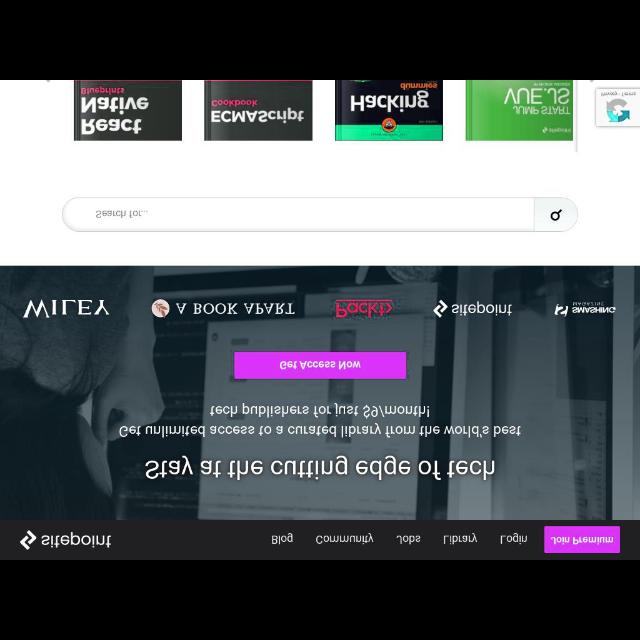backgroundimage: (1, 266, 640, 520)
button: (535, 196, 579, 232)
icon: (550, 208, 562, 220)
image: (466, 81, 574, 141), (75, 80, 182, 140), (205, 81, 312, 141), (336, 81, 442, 140), (152, 302, 294, 318), (20, 530, 112, 550), (23, 300, 109, 318), (433, 300, 513, 318), (336, 299, 394, 317), (554, 301, 616, 317), (606, 100, 630, 122)
input: (62, 196, 578, 232)
text: (120, 402, 520, 438), (144, 455, 496, 481), (280, 360, 362, 370), (316, 532, 374, 544), (552, 536, 614, 544), (96, 210, 150, 218), (443, 534, 477, 544), (500, 532, 528, 544), (272, 533, 294, 545), (396, 536, 422, 544), (602, 92, 636, 96)
textbutton: (234, 352, 406, 378), (544, 526, 620, 554)
toolbar: (1, 520, 640, 560)
